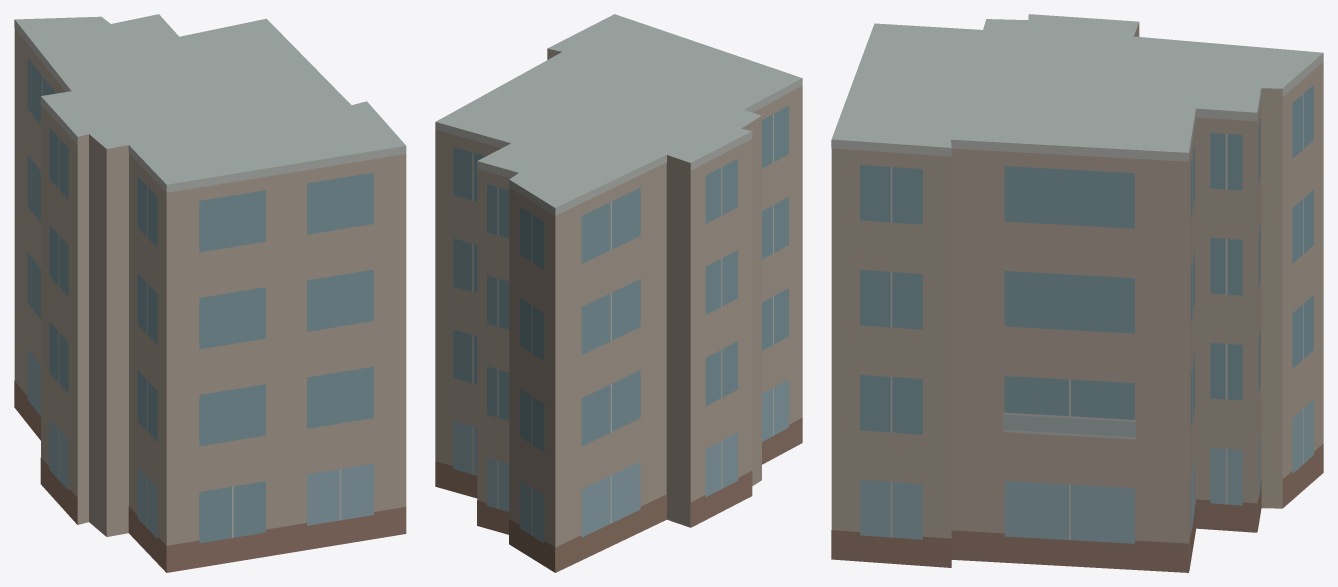
File: survey-upis-32724552.glb
3 renders of one model, left to right at view 1: azimuth 30°, elevation 25°; view 2: azimuth 150°, elevation 25°; view 3: azimuth 270°, elevation 25°, orthographic. The views are drawn at different scales.
Parts seen in each view (by area): view 1: survey-upis-32724552.tmp; view 2: survey-upis-32724552.tmp; view 3: survey-upis-32724552.tmp.
Boxes of the visible parts, left/top/right/bottom form: survey-upis-32724552.tmp: left=14, top=14, right=406, bottom=572; survey-upis-32724552.tmp: left=435, top=14, right=802, bottom=572; survey-upis-32724552.tmp: left=831, top=14, right=1323, bottom=572.
Size of the model in its own units: 8.24 by 11.6 by 12.33.
